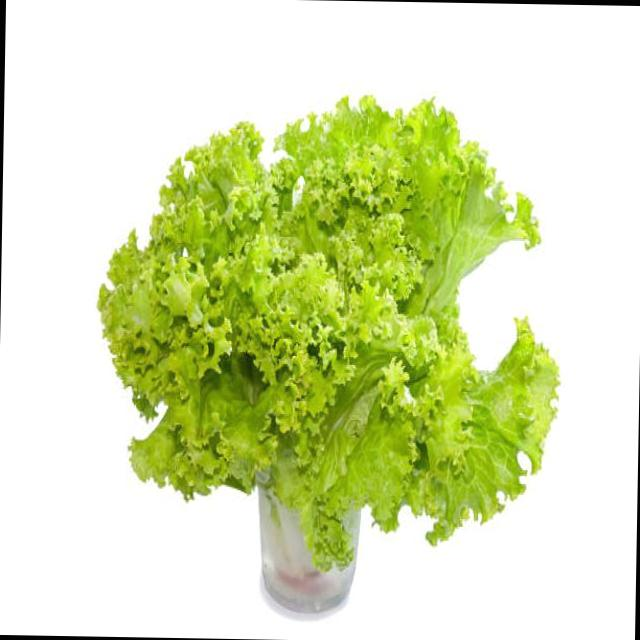Lettuce-Ready-to-Harvest: (98, 97, 557, 570)
